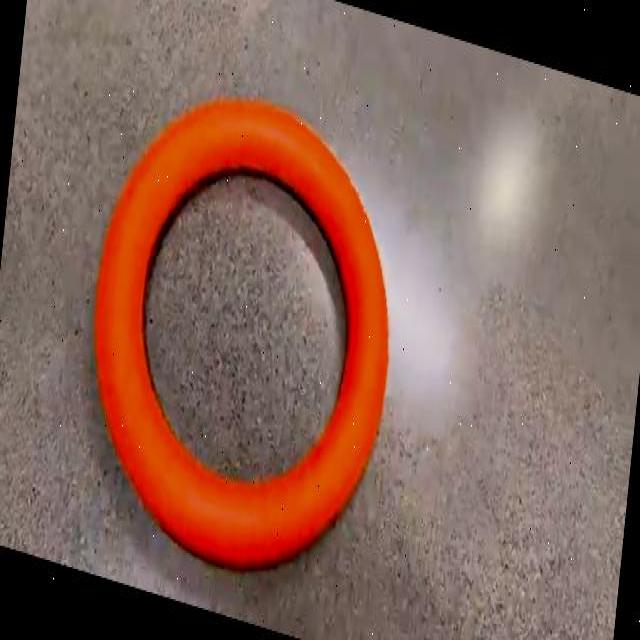note: (95, 101, 388, 564)
